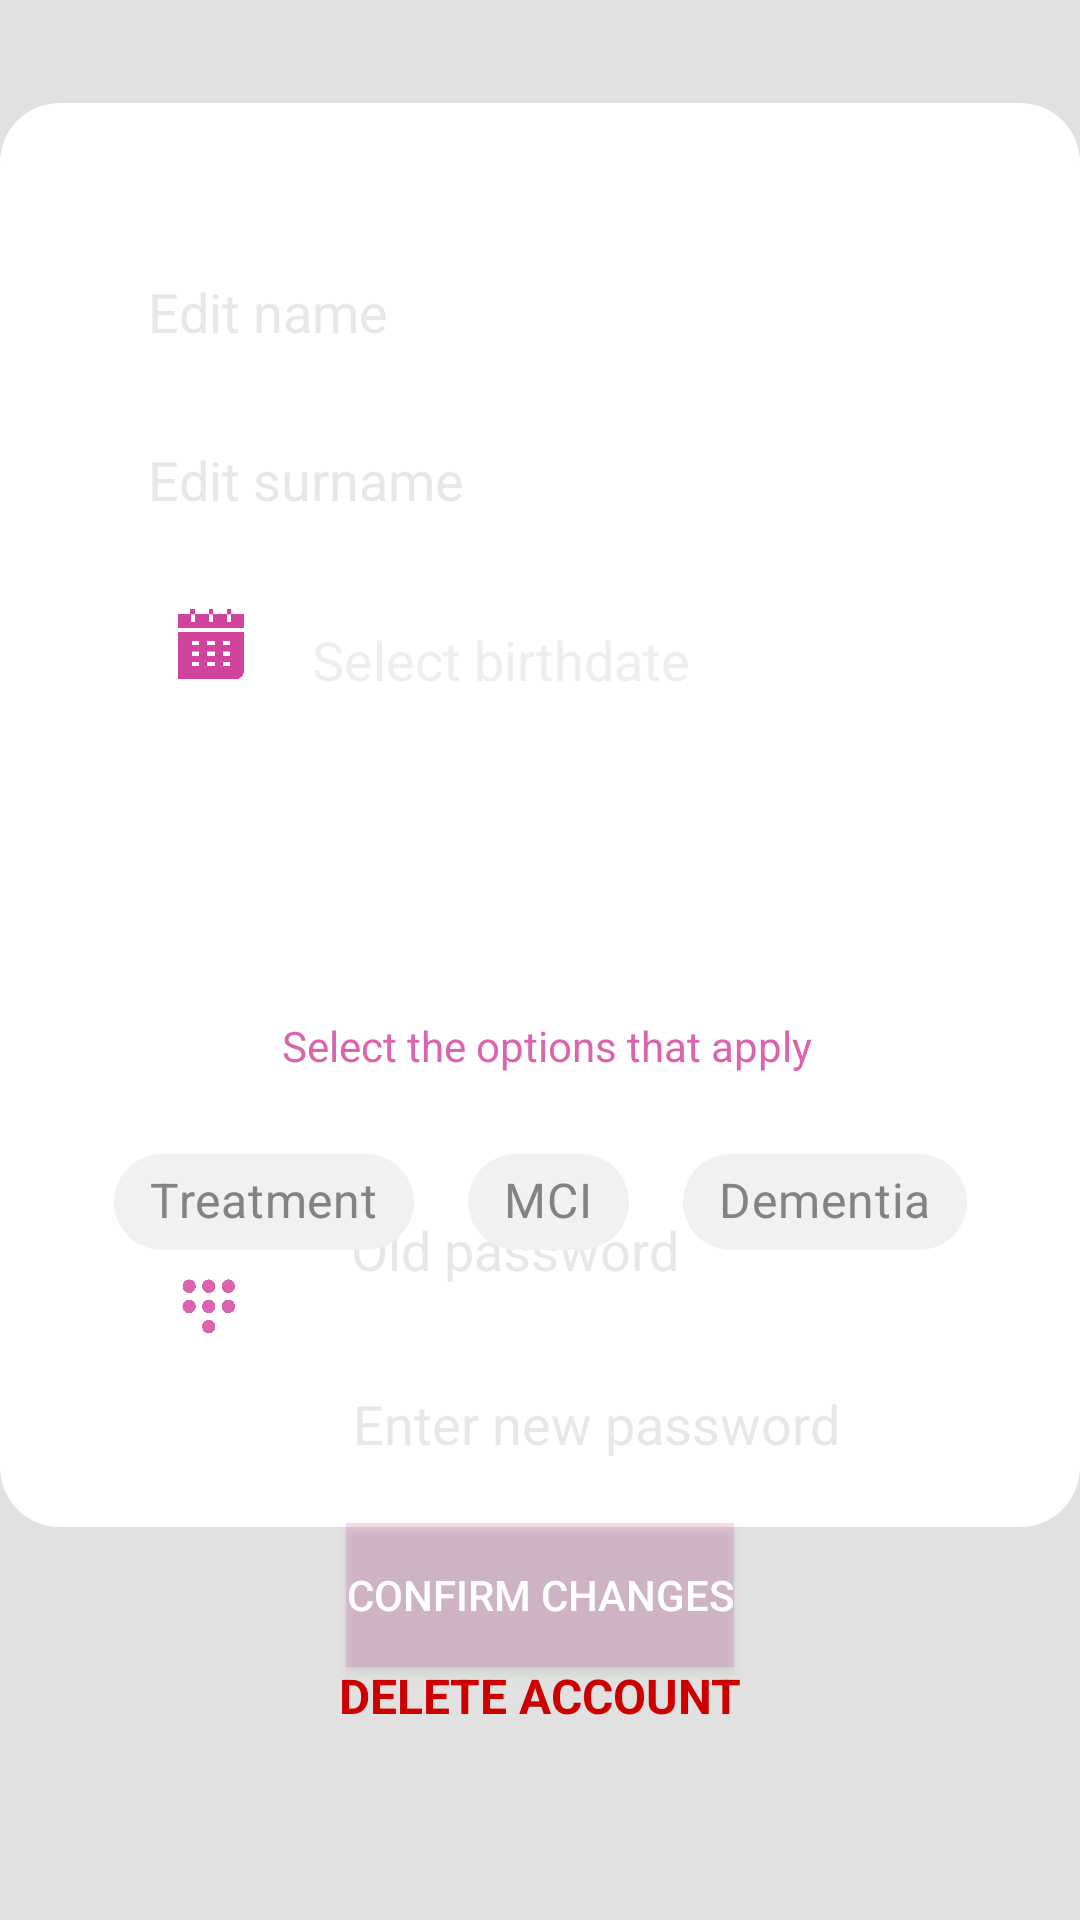

Icons on this 1080px x 1920px Android screen, each with its box as detection(x1, y1, x2, y2):
noun calendar: detection(178, 609, 244, 679)
noun password: detection(182, 1279, 235, 1333)
